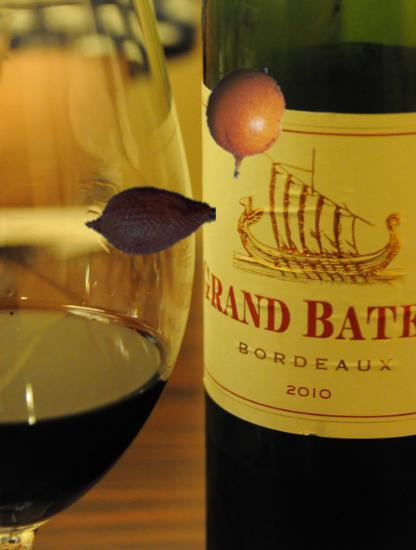Granadilla: (187, 65, 302, 180)
Salak: (83, 154, 217, 288)
